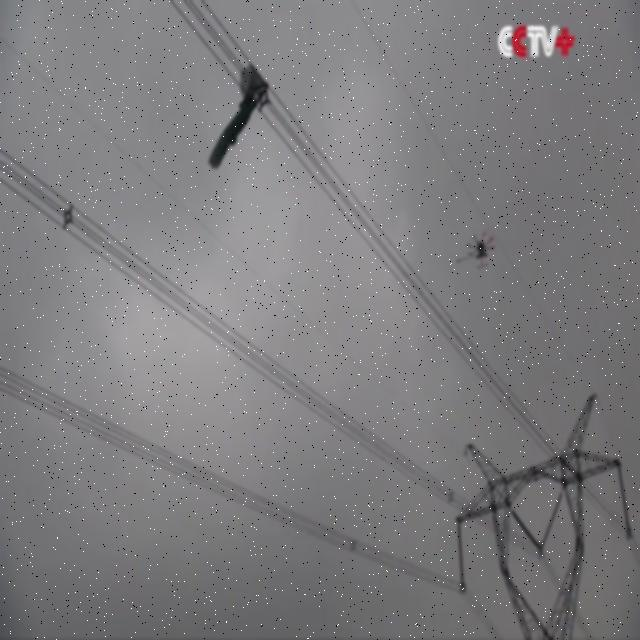UAV: (457, 233, 495, 269)
